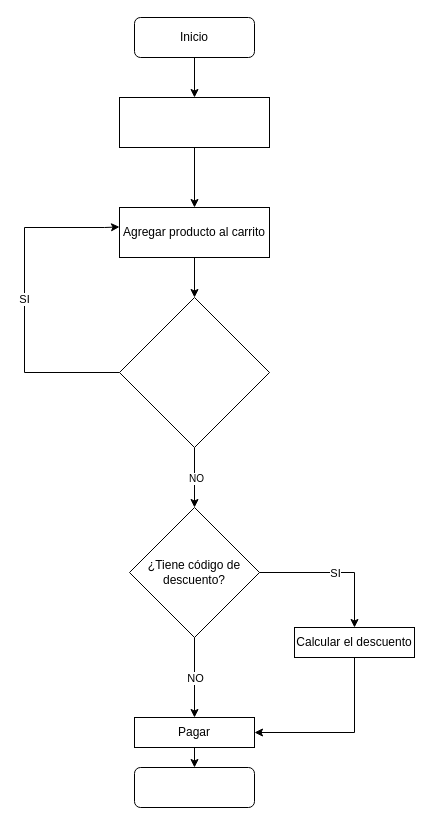
This 432x825 diagram has some shape labels left out. Each missing label, with the centre of its shape:
"Cargar registros de la BD" belongs at [194,122].
"Fin" belongs at [194,787].
"¿Se quiere agregar más productos al carrito?" belongs at [194,372].
